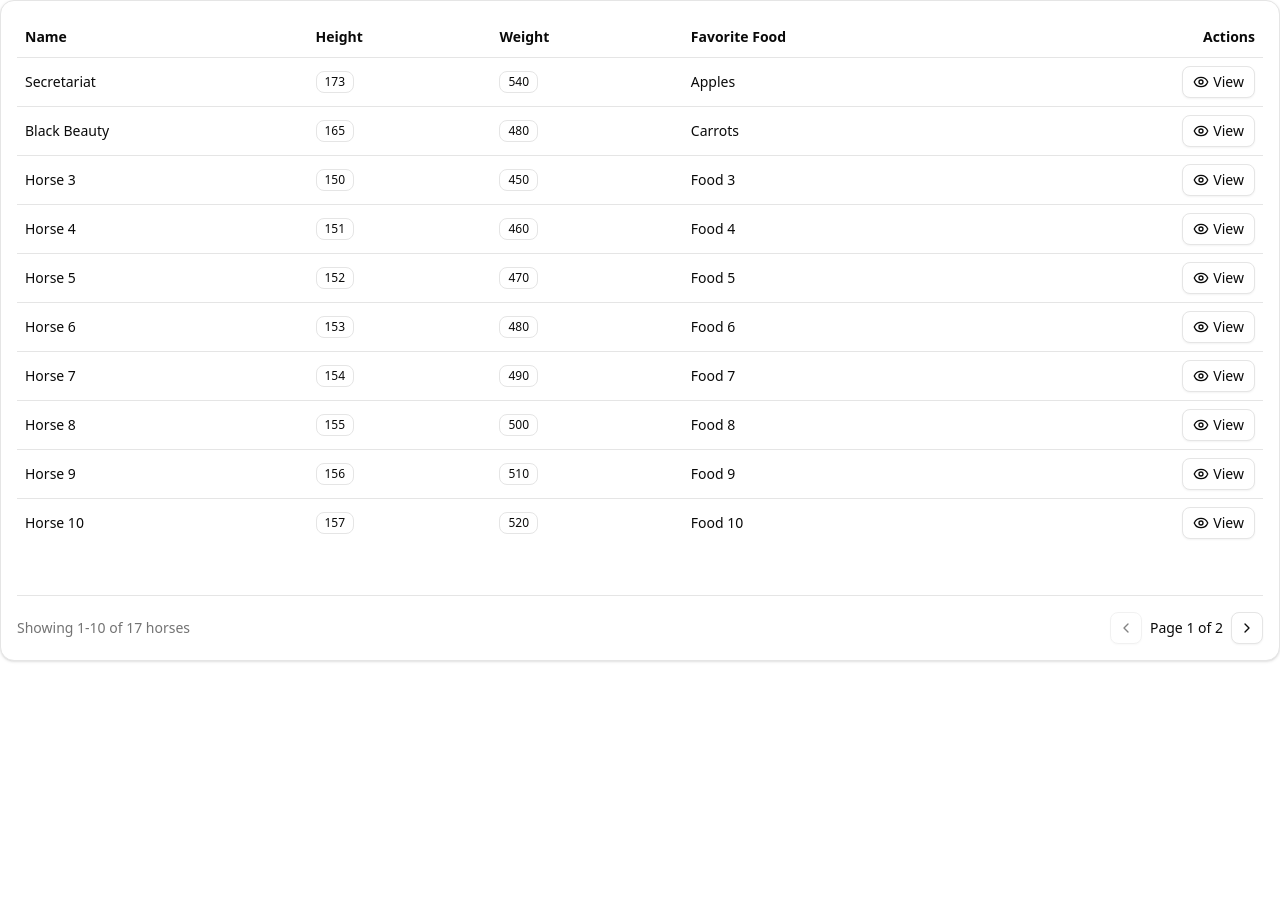
Test: HorsesTable Component › handles pagination correctly
Expected: the text "Secretariat" is shown, [17, 57, 308, 106]
Expected: the text "Black Beauty" is shown, [17, 106, 308, 155]
Note: Navigate to second page using the Next button with data-testid
Click the button with test id "pagination-next". click: coordinates (1247, 628)
box: [1231, 612, 1263, 644]
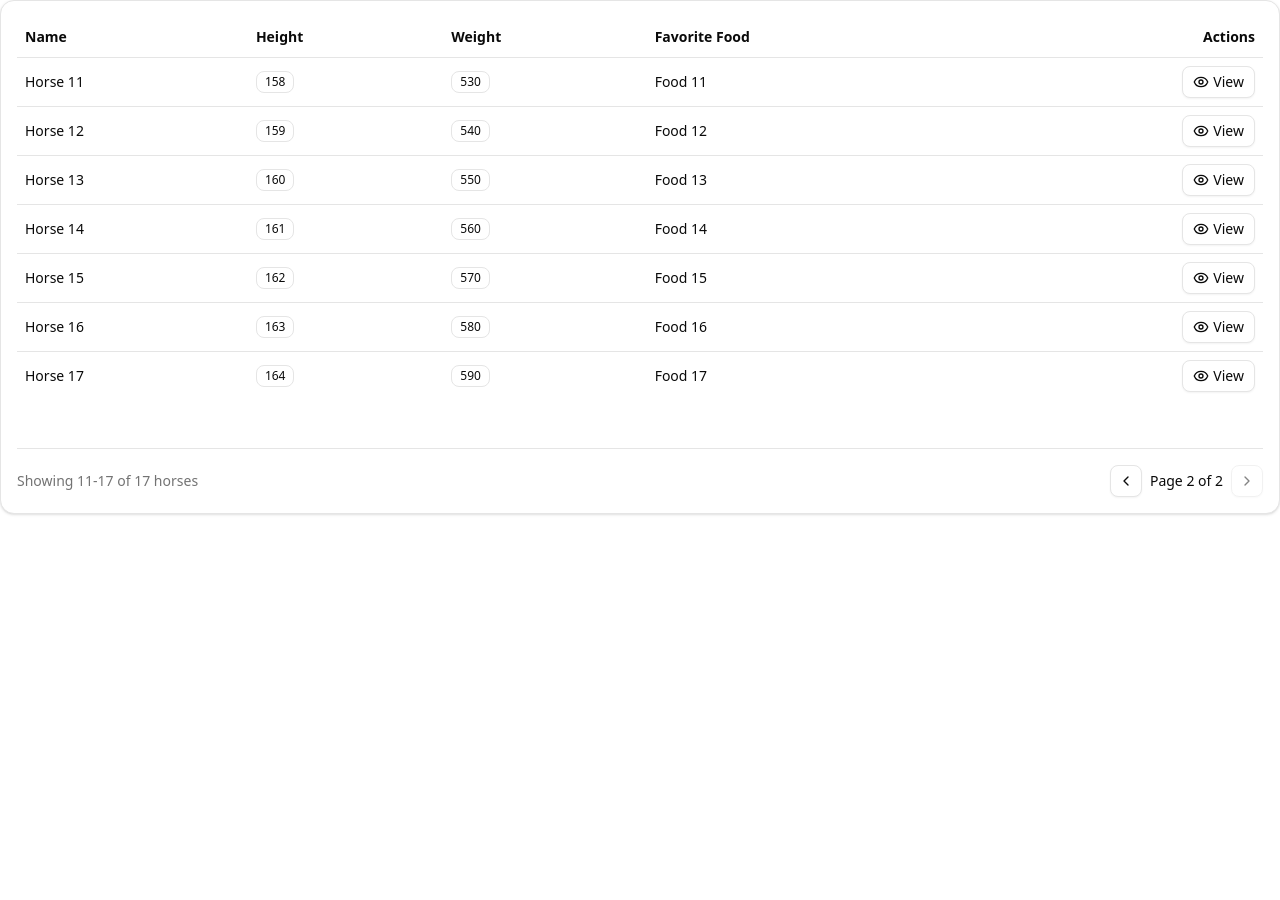
Now the text "Horse 3" is gone
Now the text "Horse 11" is shown, box [17, 57, 248, 106]
Now the text "Secretariat" is gone
Note: Navigate back to first page
Click the button with test id "pagination-prev". click: coordinates (1126, 480)
box: [1110, 464, 1142, 496]
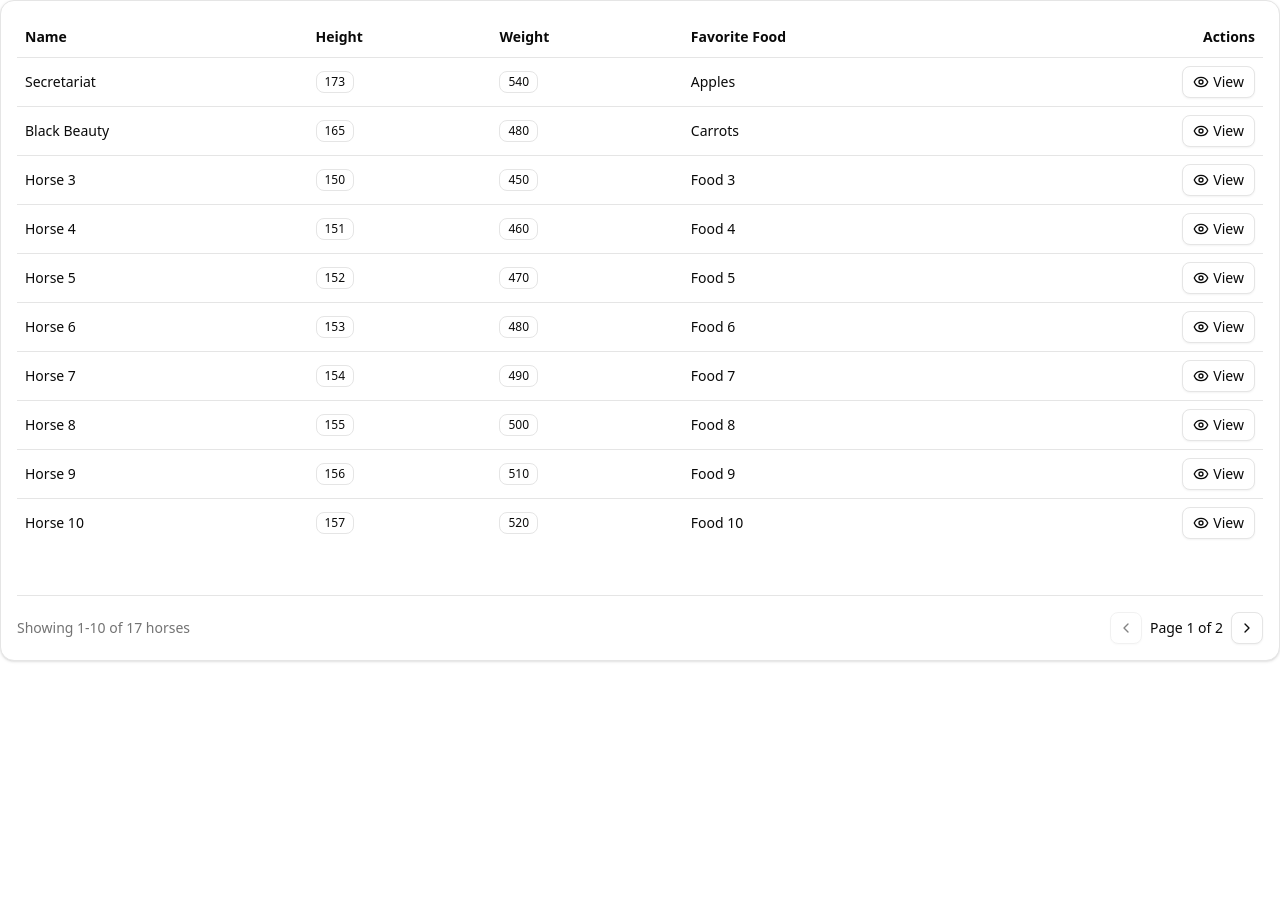
Now the text "Secretariat" is shown, box [17, 57, 308, 106]
Now the text "Black Beauty" is shown, box [17, 106, 308, 155]
Now the text "Page 1 of 2" is shown, box [1150, 618, 1223, 638]
